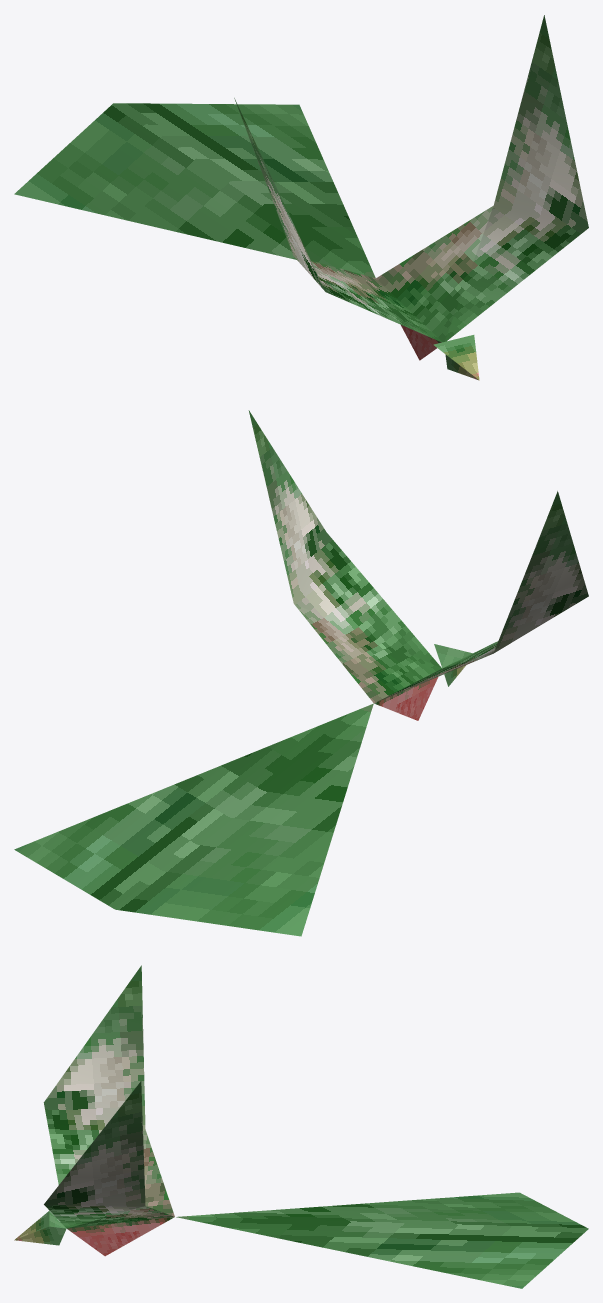
The model's file is quetzal_bird_base.glb.
The picture shows the model from 3 angles, top to bottom: view 1: azimuth 30°, elevation 25°; view 2: azimuth 150°, elevation 25°; view 3: azimuth 270°, elevation 25°; orthographic projection. The views are drawn at different scales.
Parts seen in each view (by area): view 1: MeshRoot; view 2: MeshRoot; view 3: MeshRoot.
Part boxes in pixels (bbox=[...]): MeshRoot: bbox=[14, 15, 588, 380]; MeshRoot: bbox=[14, 410, 588, 936]; MeshRoot: bbox=[14, 965, 588, 1288].
Bounding box in the file's own units: 0.8965 × 0.8096 × 1.81.
Materials: 1 (1 with a texture image).
